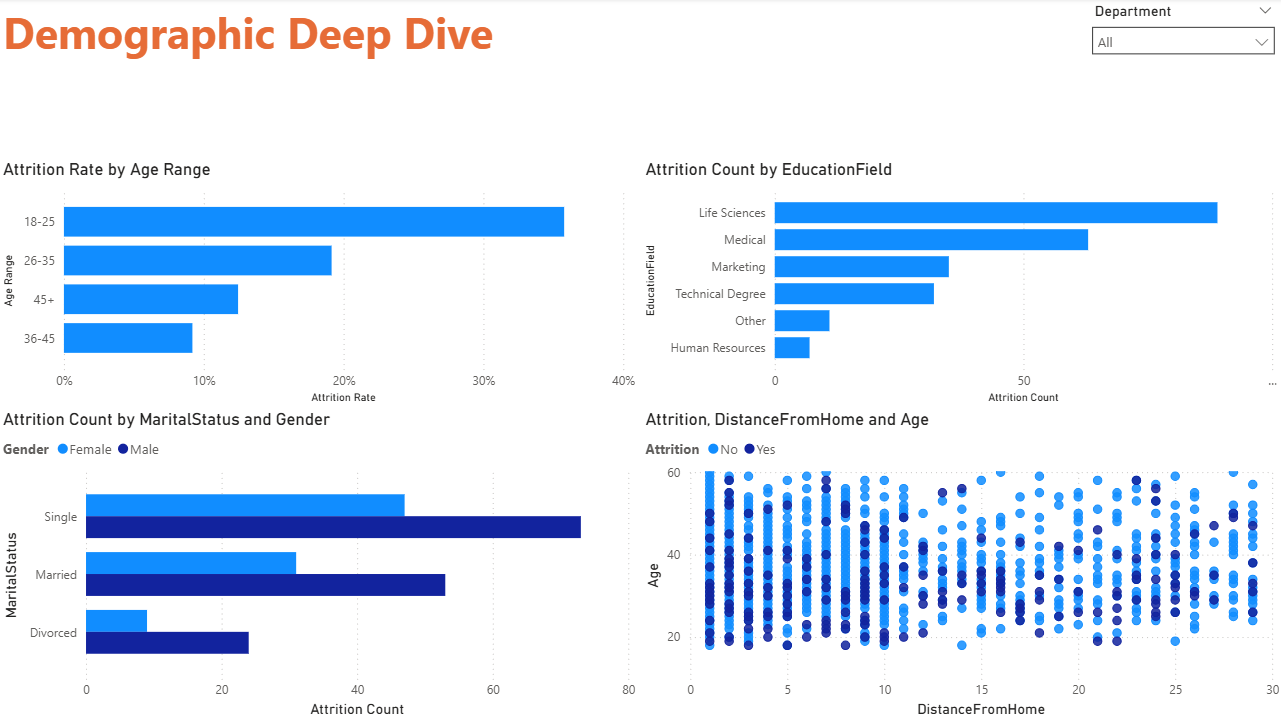

The dashboard page shown, as its layout file describes it:
{"tool":"powerbi","page":{"name":"Demographic Deep Dive","canvas":[1280,720],"ordinal":1},"visuals":[{"type":"barChart","fields":{"Category":["HR-Employee-Attrition.Age Range"],"Y":["HR-Employee-Attrition.Attrition Percentage"]},"box":[0,160.5,639.5,248.4],"z":0},{"type":"clusteredBarChart","fields":{"Y":["HR-Employee-Attrition.Attrition Count"],"Category":["HR-Employee-Attrition.MaritalStatus"],"Series":["HR-Employee-Attrition.Gender"]},"box":[0,408.9,639.5,311.5],"z":1},{"type":"scatterChart","fields":{"X":["HR-Employee-Attrition.DistanceFromHome"],"Y":["HR-Employee-Attrition.Age"],"Series":["HR-Employee-Attrition.Attrition"]},"box":[639.5,408.9,640.8,311.5],"z":2},{"type":"barChart","fields":{"Category":["HR-Employee-Attrition.EducationField"],"Y":["HR-Employee-Attrition.Attrition Count"]},"box":[639.5,160.5,640.8,248.4],"z":3},{"type":"slicer","fields":{"Values":["HR-Employee-Attrition.Department"]},"box":[1078.6,0,201.7,102.9],"z":4},{"type":"textbox","box":[0,0,639,150],"z":5}]}

Visuals, with their boxes in screenshot pixels (x1, y1, x2, y2), scaled from the page's 1280x720 canvas onto the 1281x721 screenshot:
barChart - HR-Employee-Attrition.Age Range x HR-Employee-Attrition.Attrition Percentage: <box>0,161,640,409</box>
clusteredBarChart - HR-Employee-Attrition.Attrition Count x HR-Employee-Attrition.MaritalStatus: <box>0,409,640,720</box>
scatterChart - HR-Employee-Attrition.DistanceFromHome x HR-Employee-Attrition.Age: <box>640,409,1280,720</box>
barChart - HR-Employee-Attrition.EducationField x HR-Employee-Attrition.Attrition Count: <box>640,161,1280,409</box>
slicer - HR-Employee-Attrition.Department: <box>1079,0,1280,103</box>
textbox: <box>0,0,639,150</box>
